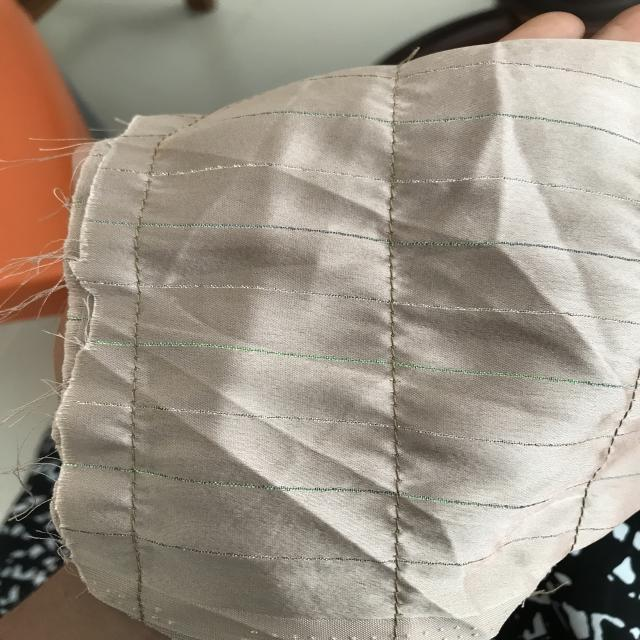good: (373, 125, 428, 181), (380, 374, 426, 422), (384, 247, 403, 302)
